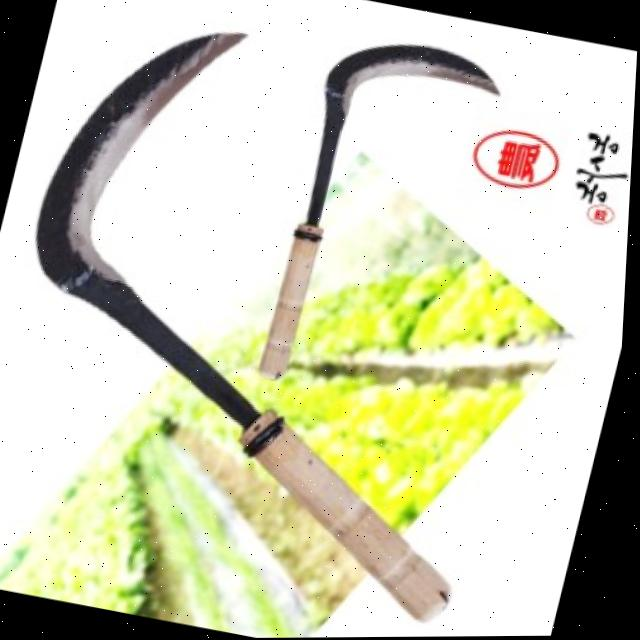sickle: (0, 7, 547, 640), (230, 21, 545, 462)
